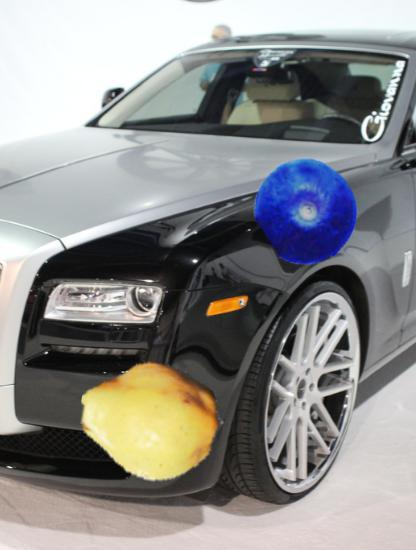Huckleberry: (254, 157, 360, 263)
Quince: (79, 348, 225, 494)
